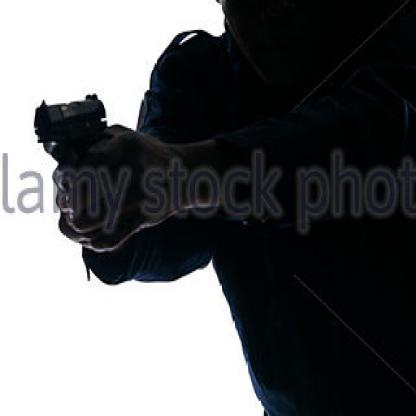gun: (22, 78, 139, 230)
